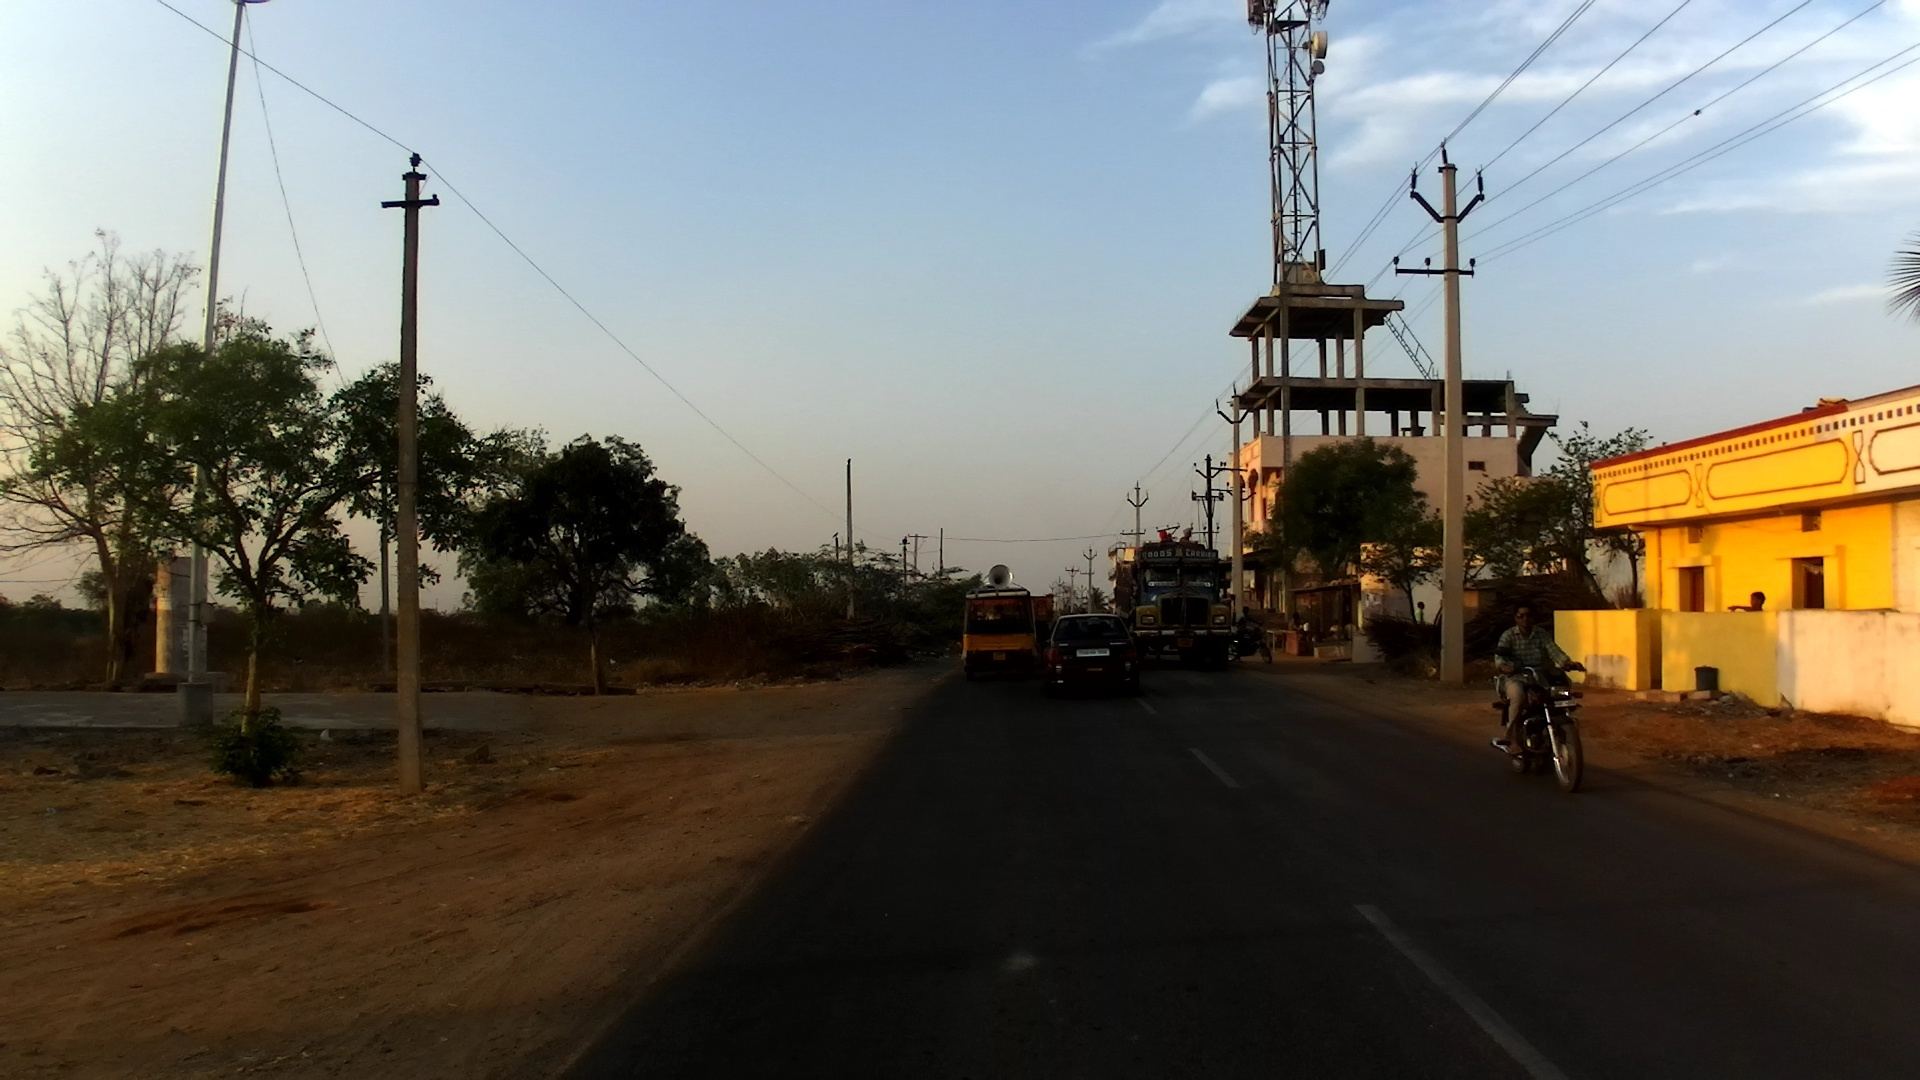autorickshaw: (959, 563, 1040, 686)
car: (1044, 607, 1139, 702)
motorcycle: (1481, 647, 1592, 793), (1232, 618, 1276, 663)
person: (1727, 586, 1768, 613), (1285, 611, 1311, 639), (1412, 600, 1433, 627)
rider: (1495, 596, 1586, 753), (1239, 603, 1262, 655), (1181, 526, 1204, 549), (1155, 526, 1175, 547)
truck: (1108, 543, 1236, 672)
vehicle fallback: (1025, 594, 1062, 645)
